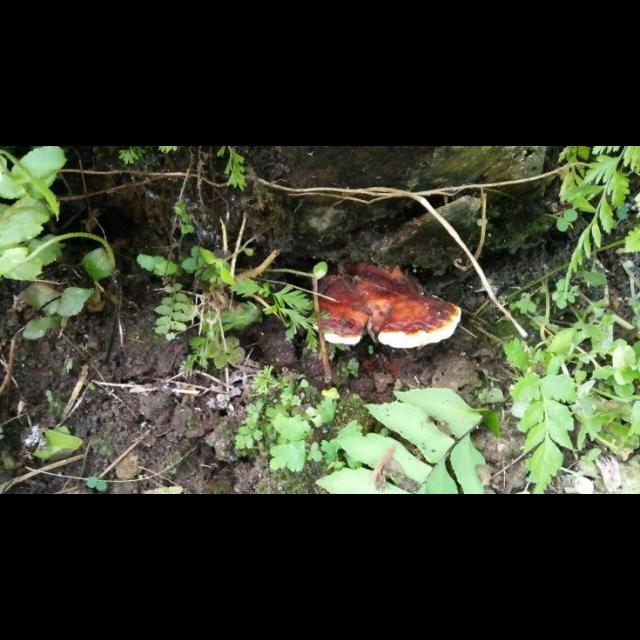ganoderma: (313, 262, 464, 352)
